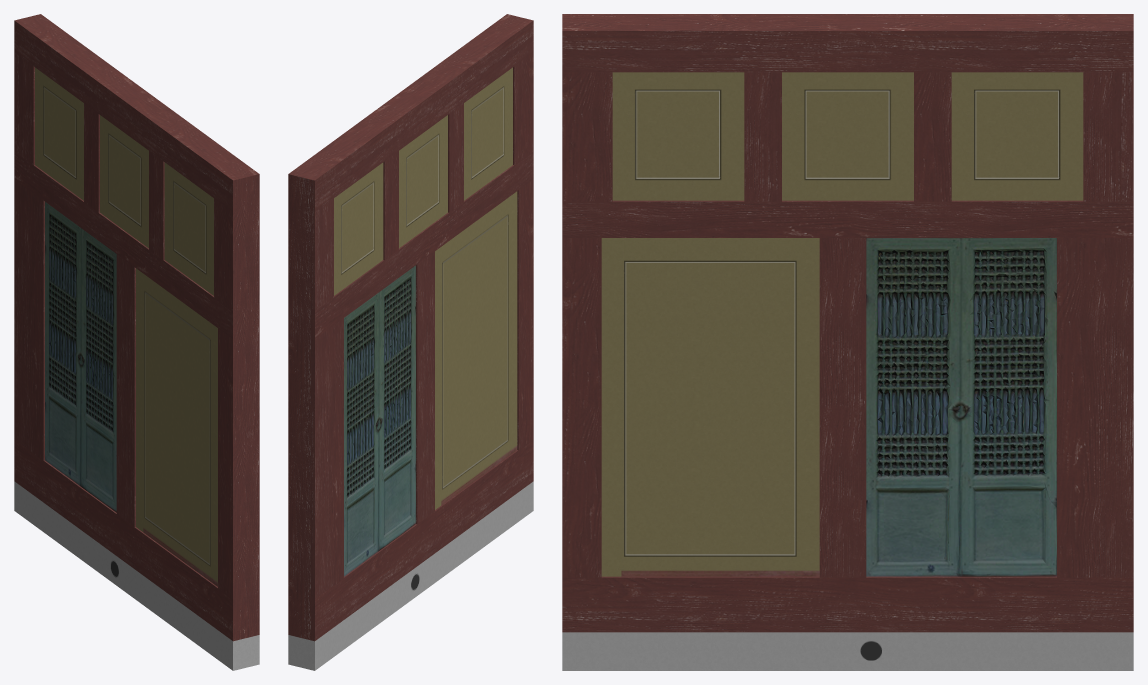
Rendered from SM_Sun_Dae_Wall_C.fbx.
3 renders of one model, left to right at view 1: azimuth 30°, elevation 25°; view 2: azimuth 150°, elevation 25°; view 3: azimuth 270°, elevation 25°, orthographic. The views are drawn at different scales.
Visible parts, largest first — view 1: SM_Sun_Dae_Wall_C; view 2: SM_Sun_Dae_Wall_C; view 3: SM_Sun_Dae_Wall_C.
Part boxes in pixels (x1,y1,x2,y2): SM_Sun_Dae_Wall_C: (14,14,259,670); SM_Sun_Dae_Wall_C: (288,14,533,670); SM_Sun_Dae_Wall_C: (562,14,1133,670).
Bounding box in the file's own units: 20 × 354 × 286.
